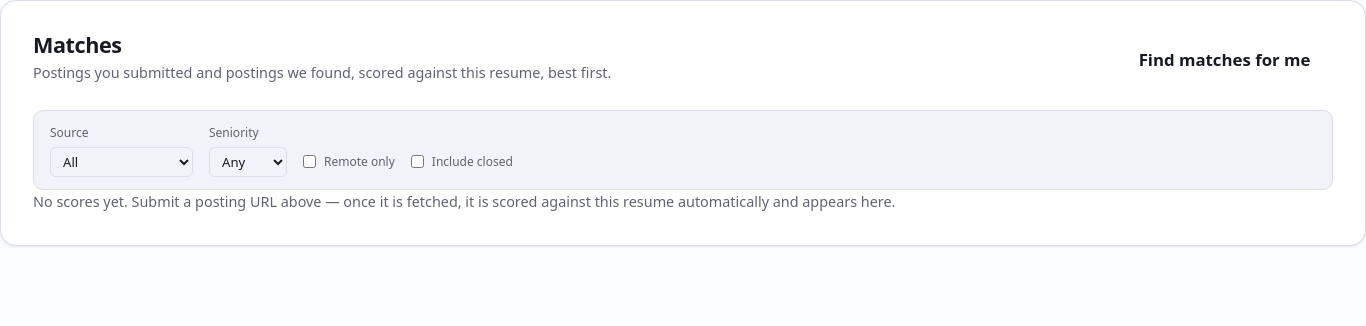
Scenario: find matches for me › explains a profile that is not ready yet
Click the button "Find matches for me" at (1224, 59), box [1116,33,1333,86]
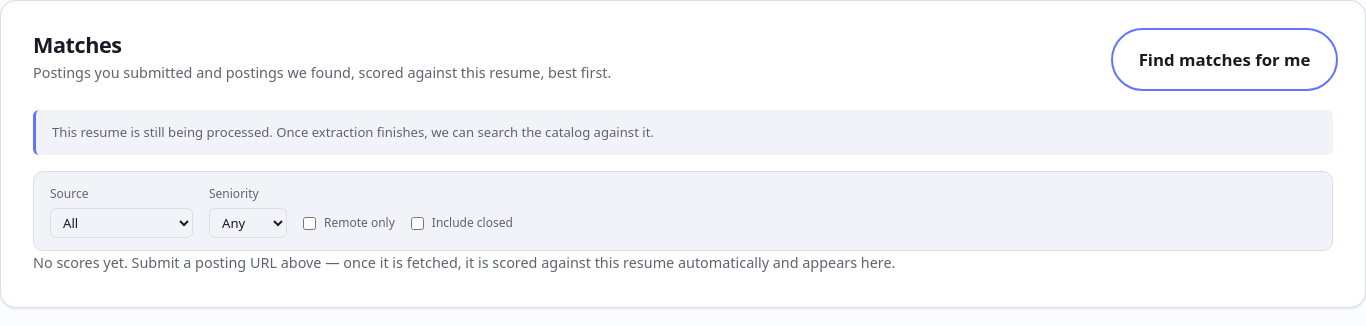
Now the text "still being processed" is shown, box [52,123,654,141]
